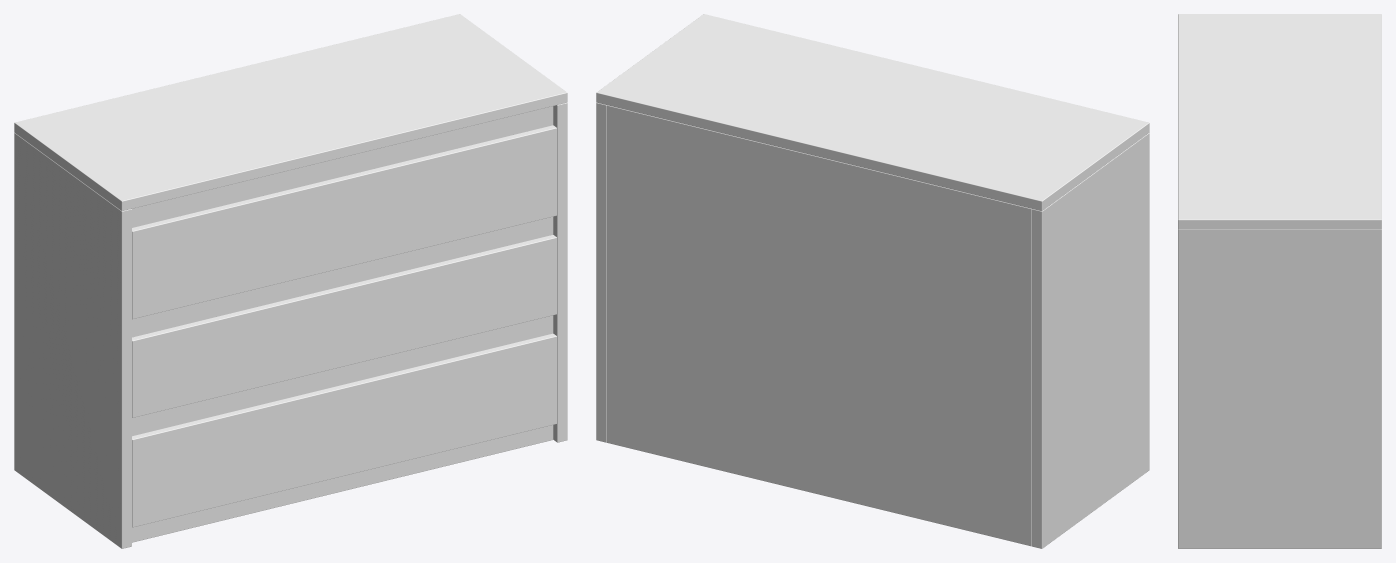
File: abo-B07H8VHYHN.glb
3 views of the same model, side by side, from view 1: azimuth 30°, elevation 25°; view 2: azimuth 150°, elevation 25°; view 3: azimuth 270°, elevation 25° (orthographic). The views are drawn at different scales.
Bounding box in the file's own units: 1.1 × 0.82 × 0.46.
Materials: 1 (1 with a texture image).
